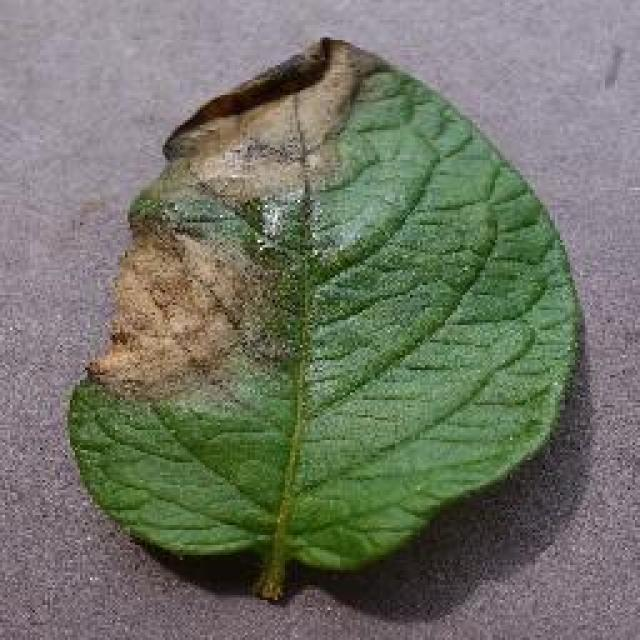green waste: (31, 4, 594, 610)
